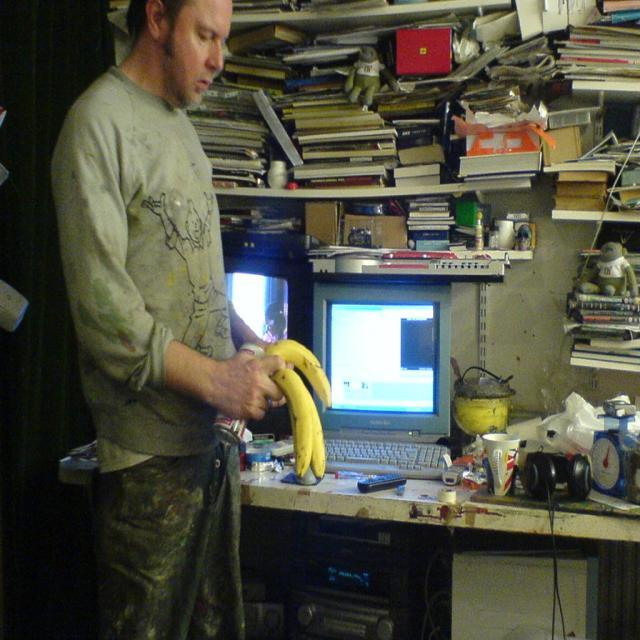Banana: (269, 370, 315, 478), (306, 384, 326, 480)
